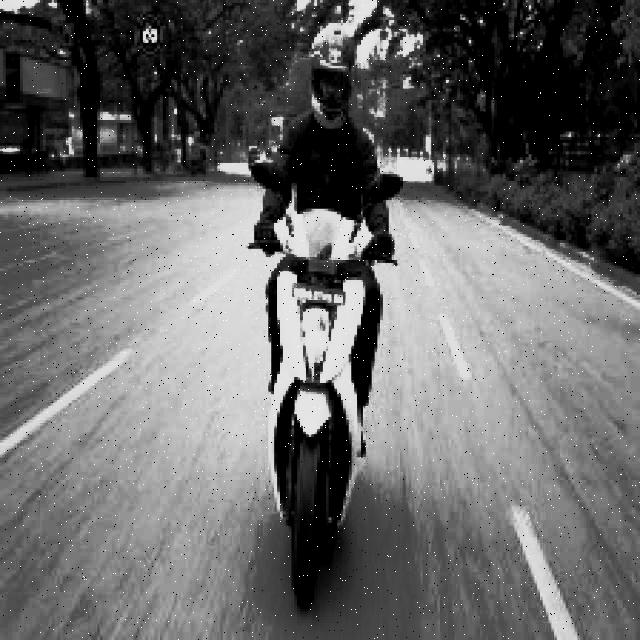Bike: (255, 170, 389, 572)
